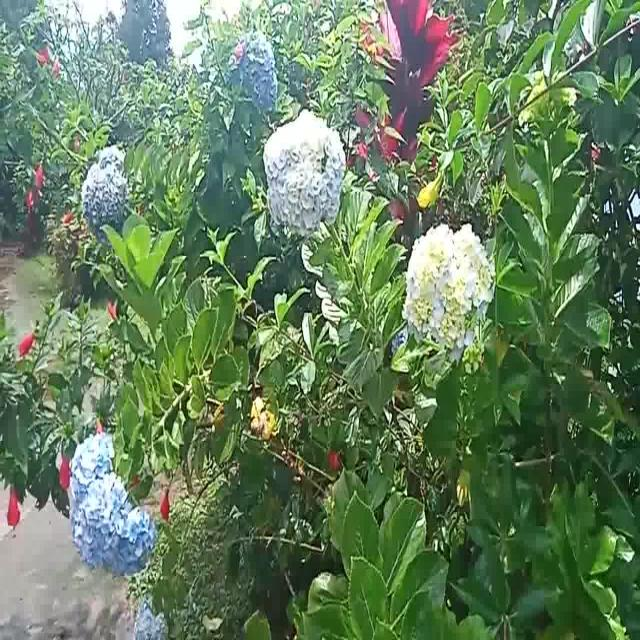Flower: (66, 430, 161, 576), (405, 218, 493, 372), (262, 111, 350, 238), (81, 138, 131, 236), (234, 24, 280, 112), (132, 600, 168, 640), (16, 319, 44, 366), (7, 476, 21, 536), (163, 479, 171, 527)
